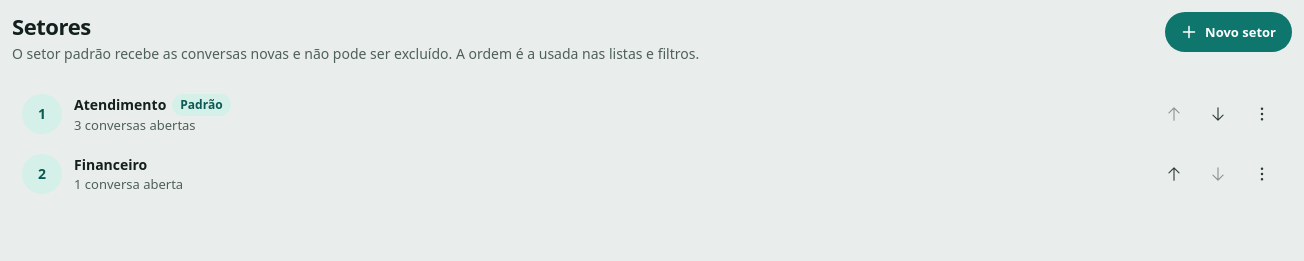
Test case: Setores › lists the sectors with number, Padrão badge and open chats; the first cannot go up nor the default be deleted
Expected: the heading "Setores" is shown, [12, 11, 91, 41]
Expected: the text "3 conversas abertas" is shown, [74, 116, 196, 134]
Click the button named "Opções do setor Atendimento" at (1262, 114), box [1242, 94, 1282, 134]
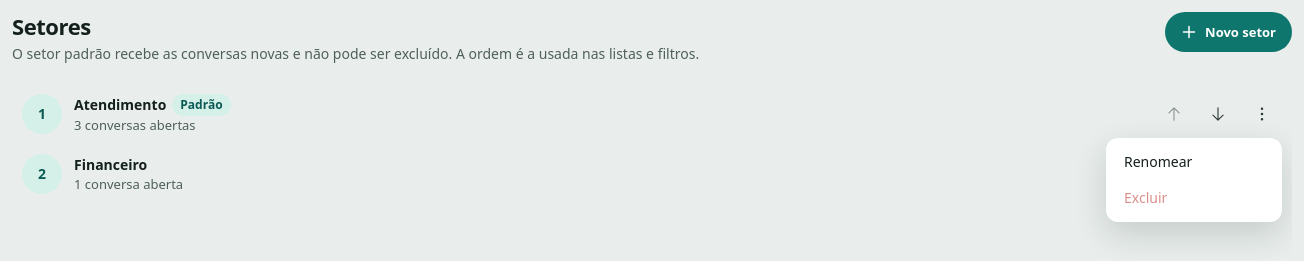
Expected: the button "Excluir" is disabled, [1112, 180, 1276, 216]
